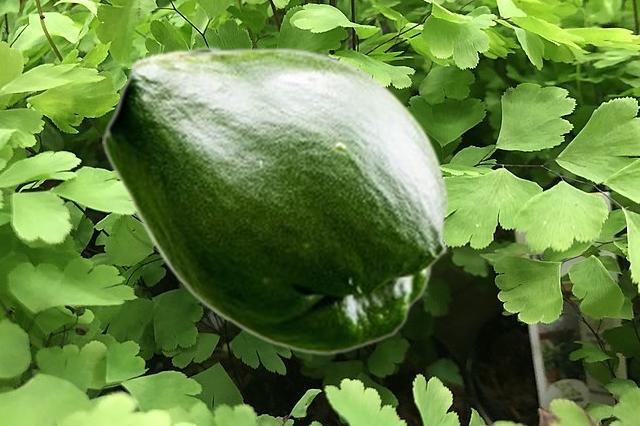sayote: (102, 46, 448, 354)
